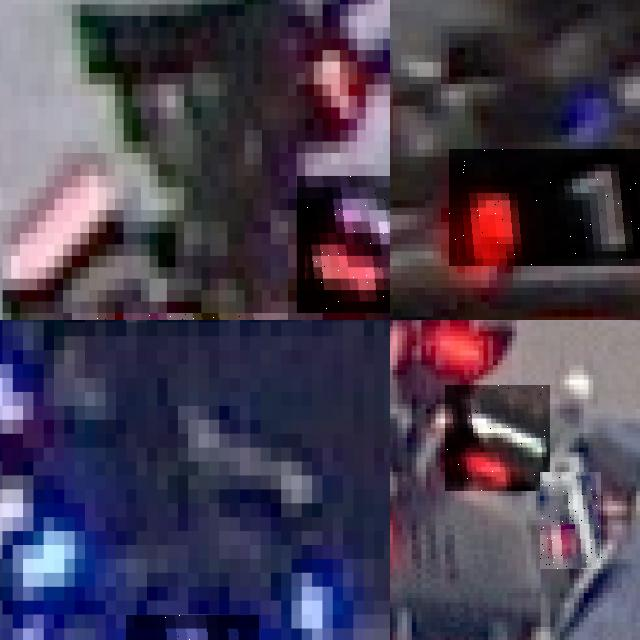R1: (449, 149, 640, 265), (445, 385, 550, 491), (540, 472, 602, 569)
R3: (296, 176, 390, 313)
